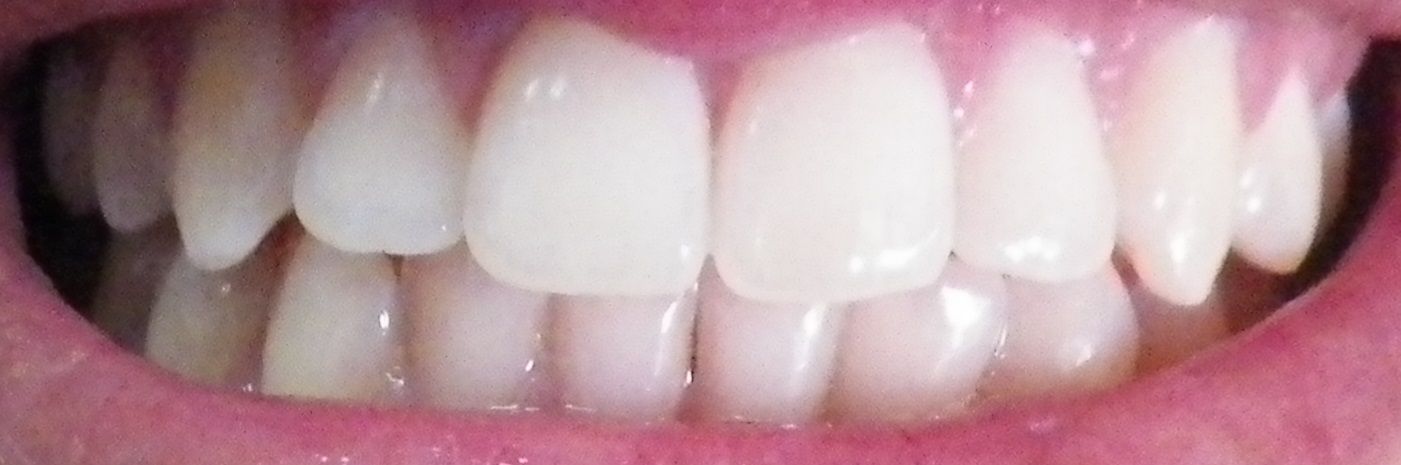boca: (33, 12, 1340, 419)
